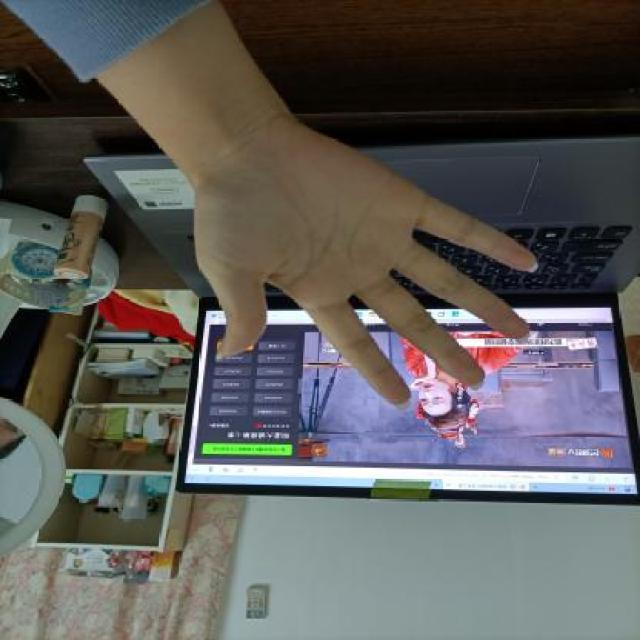bare_hand: (168, 122, 554, 410)
